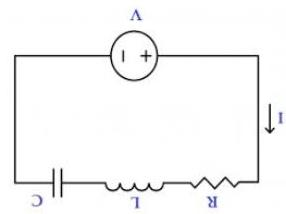Capacitor: (44, 160, 75, 201)
